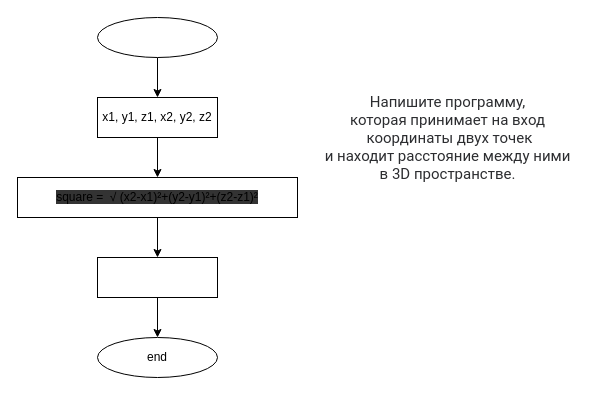
This 595x395 diagram has some shape labels left out. Here are the shapes that lost their labels. From the top down, the centre of each, then its label:
[157,37]: start
[157,277]: sguare
